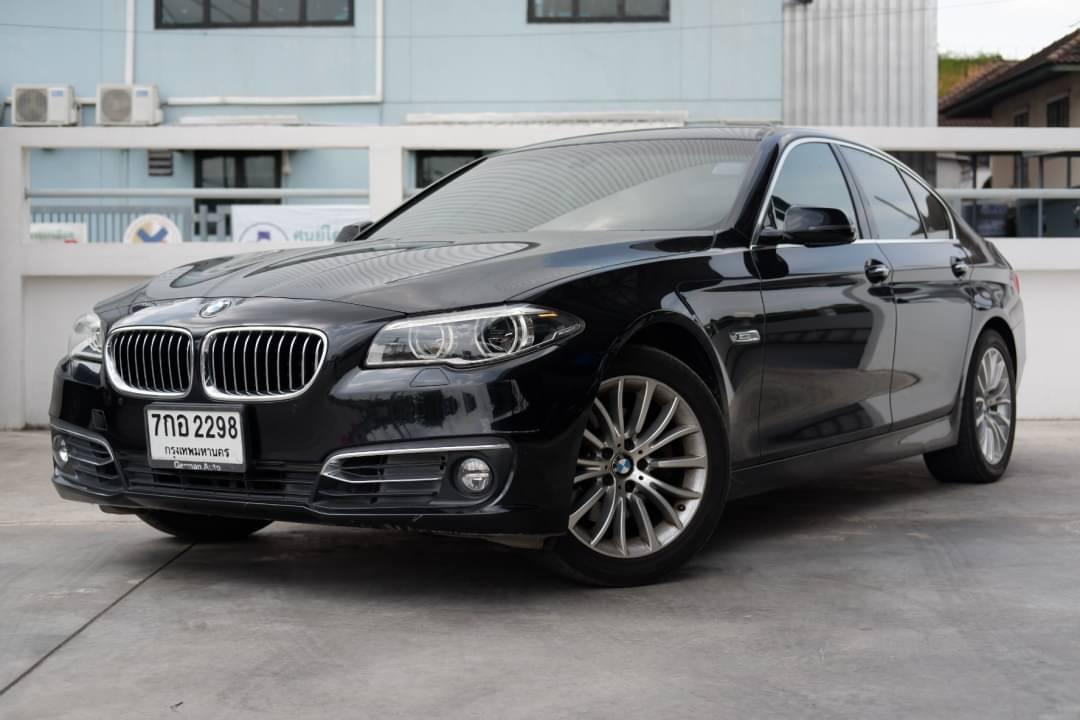license-plate: (144, 398, 256, 483)
